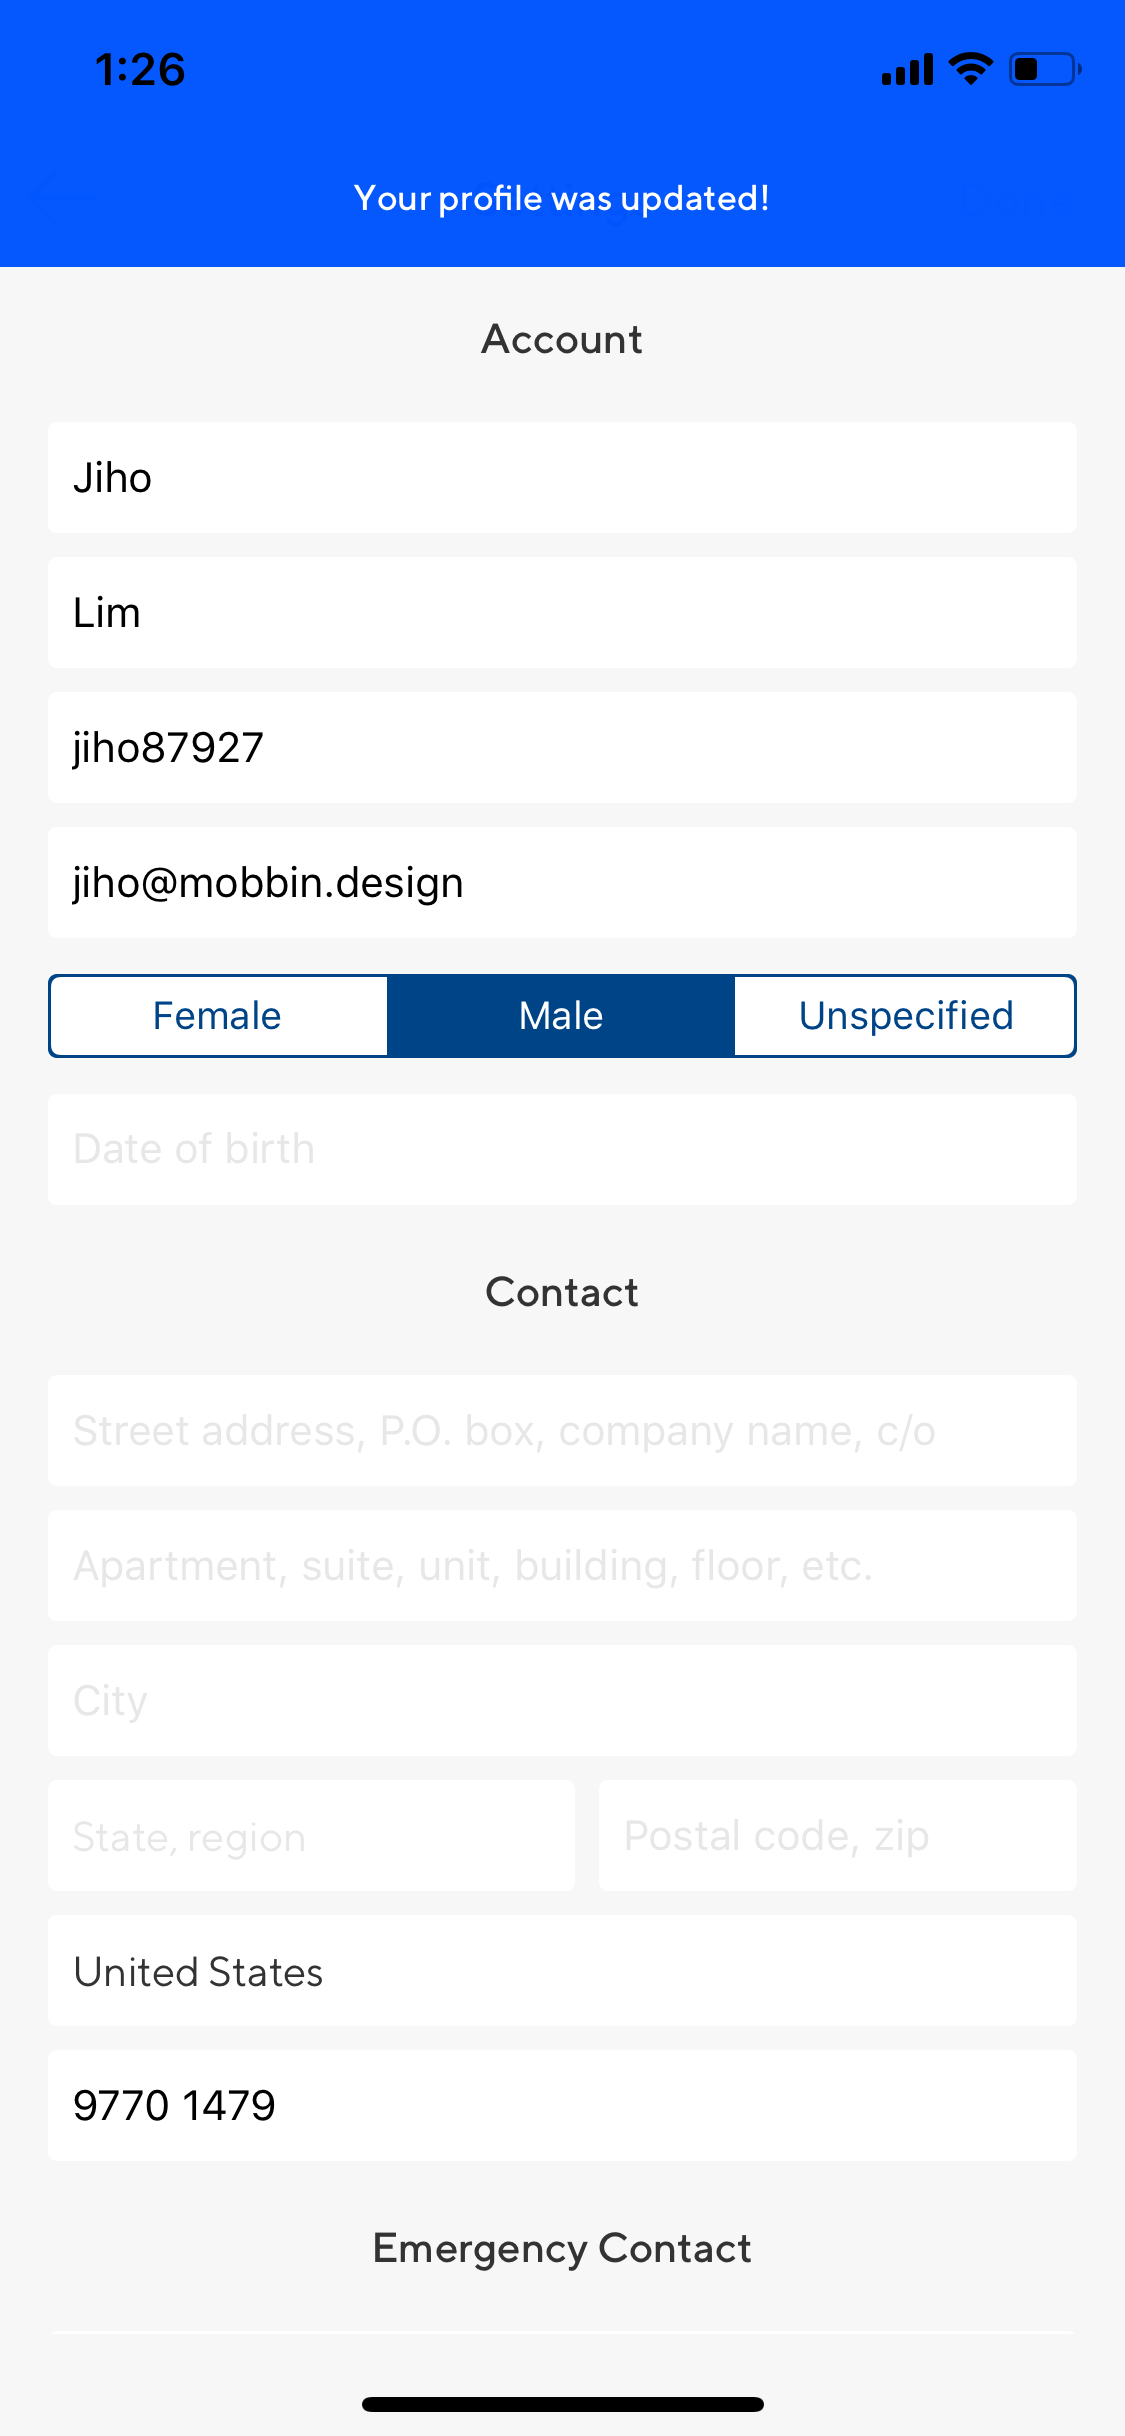Buttons: (339, 2192, 771, 2301)
Text Fields: (28, 405, 1092, 558), (37, 1504, 1095, 1650), (34, 1083, 1095, 1227), (40, 2038, 1094, 2181), (34, 1362, 1099, 1495), (28, 1906, 1095, 2037), (30, 828, 1094, 955), (37, 694, 1089, 820), (33, 1651, 1095, 1776), (33, 565, 1094, 687), (30, 1773, 583, 1909), (584, 1780, 1097, 1912)
